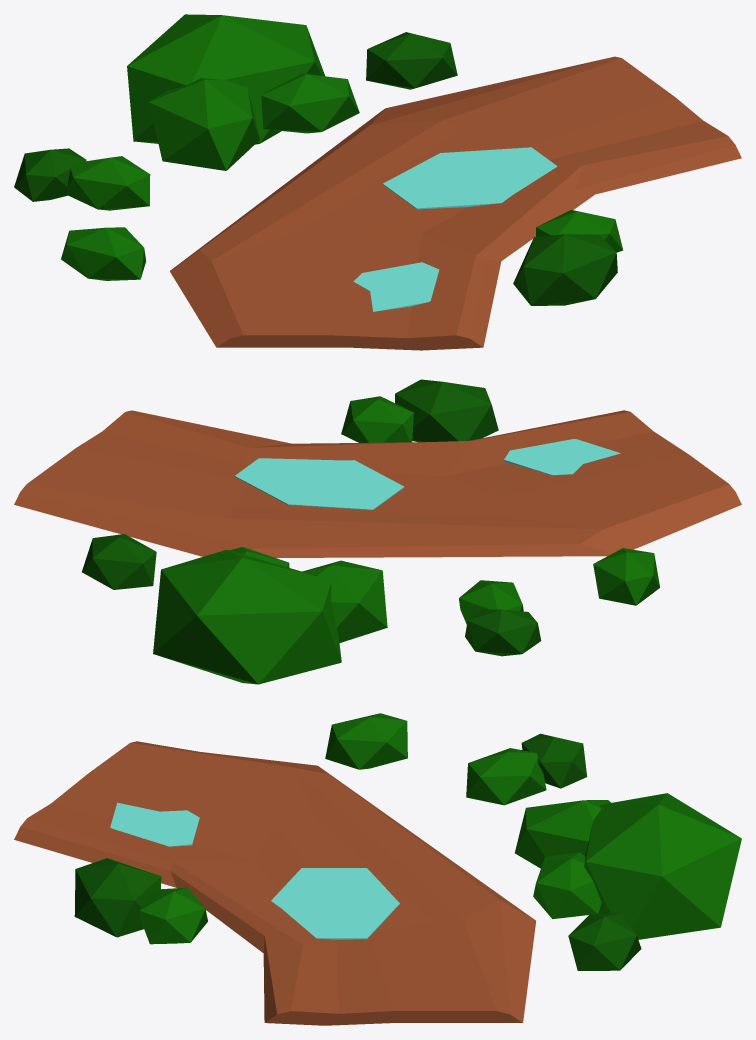
Rendered from street3_02_3.fbx.
3 views of the same model, one above another, from view 1: azimuth 30°, elevation 25°; view 2: azimuth 150°, elevation 25°; view 3: azimuth 270°, elevation 25° (orthographic). The views are drawn at different scales.
Visible parts, largest first — view 1: readRoad02.002, bush.006, bush.007, waterRoundBig, bush.009, bush.008, bush.005, bush.012, bush.004, waterRoundSmall, bush.011, bush.010; view 2: readRoad02.002, bush.006, waterRoundBig, bush.009, bush.007, bush.005, bush.012, bush.011, bush.010, waterRoundSmall, bush.004; view 3: readRoad02.002, bush.006, waterRoundBig, bush.009, bush.007, bush.012, bush.004, bush.008, bush.005, bush.010, waterRoundSmall, bush.011.
Part boxes in pixels (box(x1,y1,x2,y2)): readRoad02.002: box(170, 56, 741, 350); bush.006: box(127, 14, 324, 144); bush.007: box(149, 78, 259, 170); waterRoundBig: box(383, 147, 557, 209); bush.009: box(513, 234, 617, 305); bush.008: box(261, 73, 359, 133); bush.005: box(366, 32, 457, 89); bush.012: box(61, 227, 145, 280); bush.004: box(67, 156, 150, 210); waterRoundSmall: box(353, 262, 439, 311); bush.011: box(14, 148, 86, 201); bush.010: box(536, 210, 623, 252); readRoad02.002: box(14, 410, 741, 557); bush.006: box(153, 550, 341, 684); waterRoundBig: box(234, 458, 404, 509); bush.009: box(395, 379, 498, 442); bush.007: box(302, 560, 387, 642); bush.005: box(82, 534, 156, 589); bush.012: box(593, 548, 659, 605); bush.011: box(465, 609, 541, 656); bush.010: box(341, 396, 413, 442); waterRoundSmall: box(504, 439, 620, 475); bush.004: box(459, 580, 523, 624); readRoad02.002: box(14, 741, 536, 1025); bush.006: box(584, 793, 741, 939); waterRoundBig: box(271, 868, 399, 939); bush.009: box(74, 858, 161, 937); bush.007: box(515, 800, 611, 868); bush.012: box(325, 713, 407, 769); bush.004: box(466, 748, 546, 805); bush.008: box(533, 852, 601, 919); bush.005: box(568, 913, 641, 970); bush.010: box(139, 887, 207, 944); waterRoundSmall: box(110, 802, 199, 846); bush.011: box(521, 733, 587, 788).
Size of the model in its own units: 93.19 by 19.55 by 98.65.
